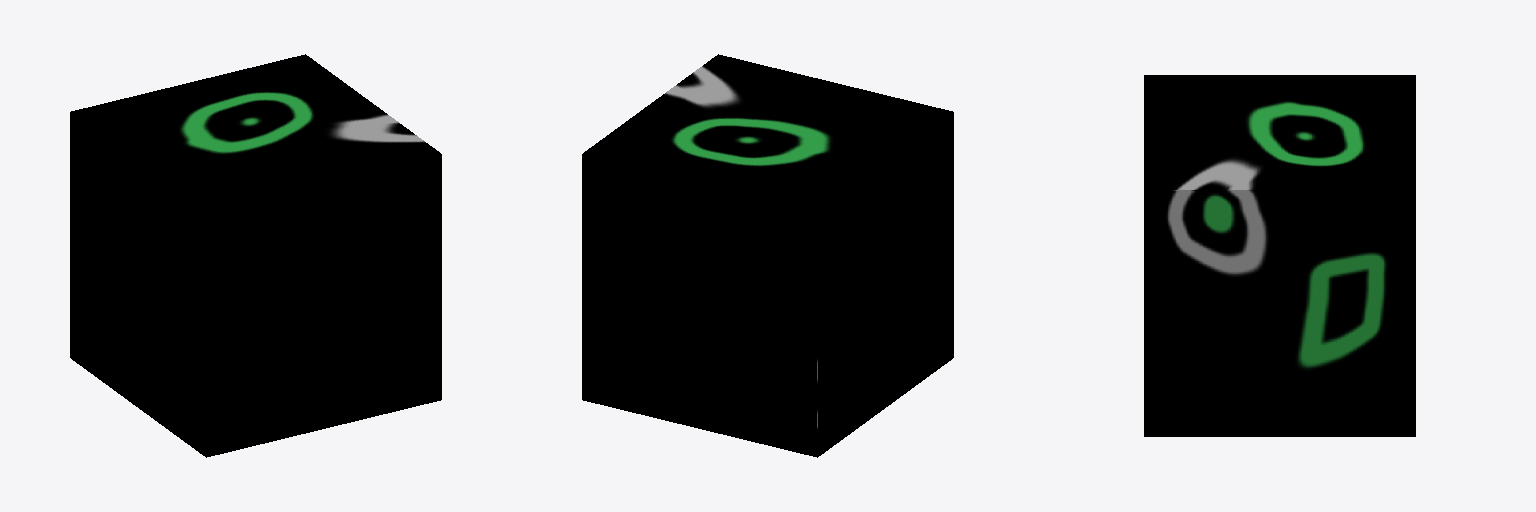
3 views of the same model, side by side, from view 1: azimuth 30°, elevation 25°; view 2: azimuth 150°, elevation 25°; view 3: azimuth 270°, elevation 25° (orthographic).
Visible parts, largest first — view 1: Cube; view 2: Cube; view 3: Cube.
Boxes of the visible parts, <box> form: Cube: <box>70,54,441,457</box>; Cube: <box>582,54,953,457</box>; Cube: <box>1144,75,1415,436</box>.
Size of the model in its own units: 2 by 2 by 2.
1 materials, 1 textured.